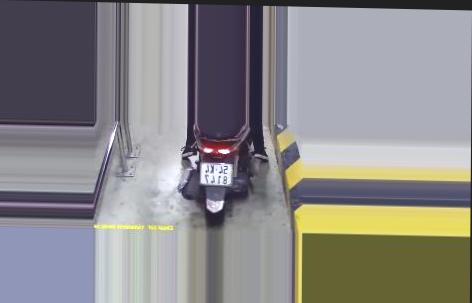License_Plate: (200, 160, 234, 188)
